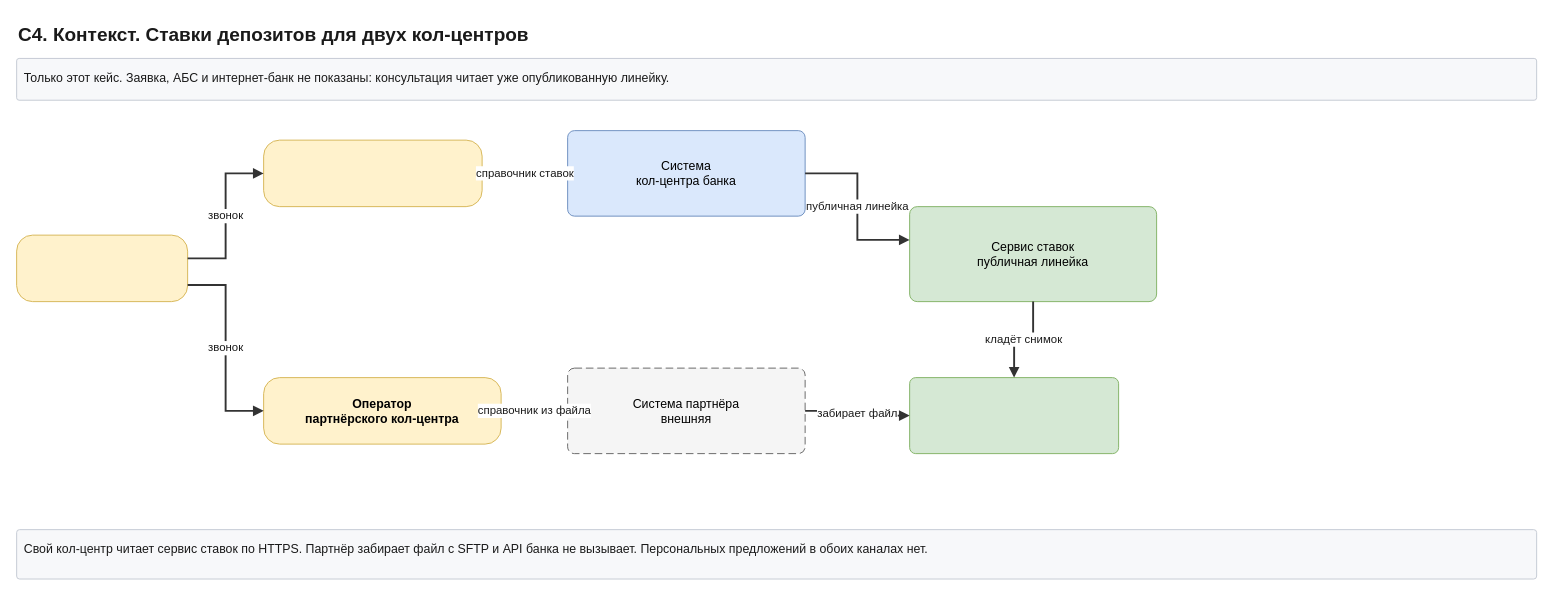
The diagram is 1553 pixels wide and 596 high, and some of its shapes have lost their labels. The centre of each missing label's shape, as x and y in pixels:
Каталог SFTP банка: the point at 1014,415
Клиент: the point at 102,268
Оператор кол-центра банка: the point at 372,173
